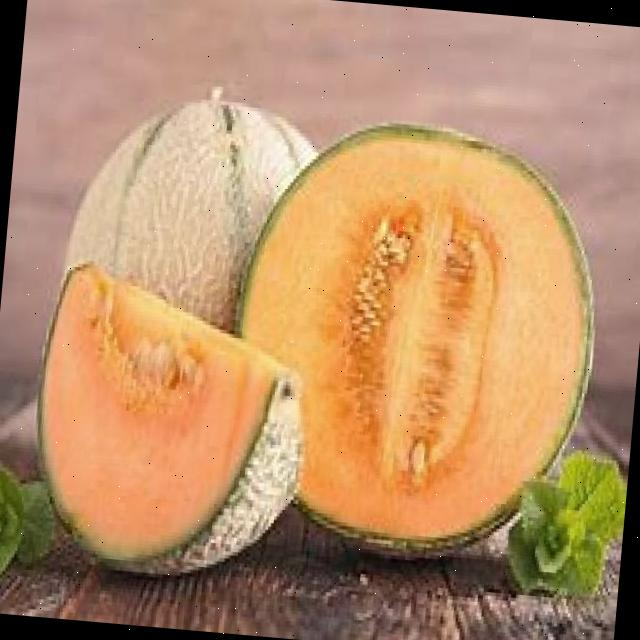Hami Melon: (221, 108, 615, 570), (25, 263, 317, 589), (61, 86, 326, 347)
